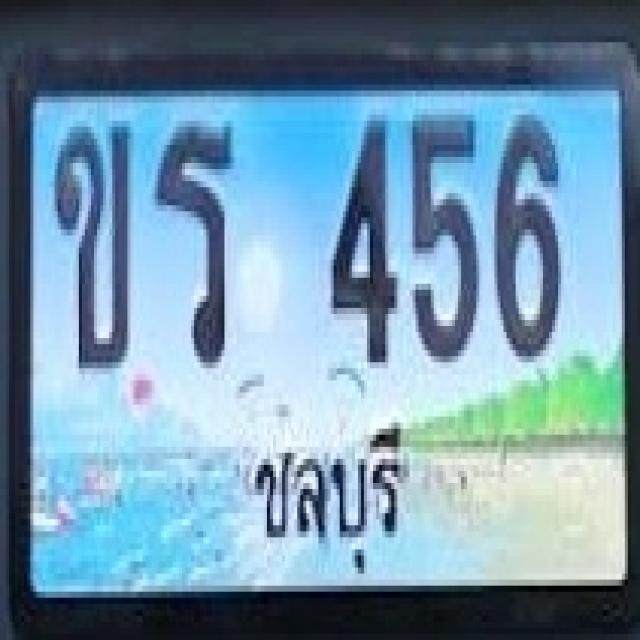license_plate: (11, 48, 640, 640)
